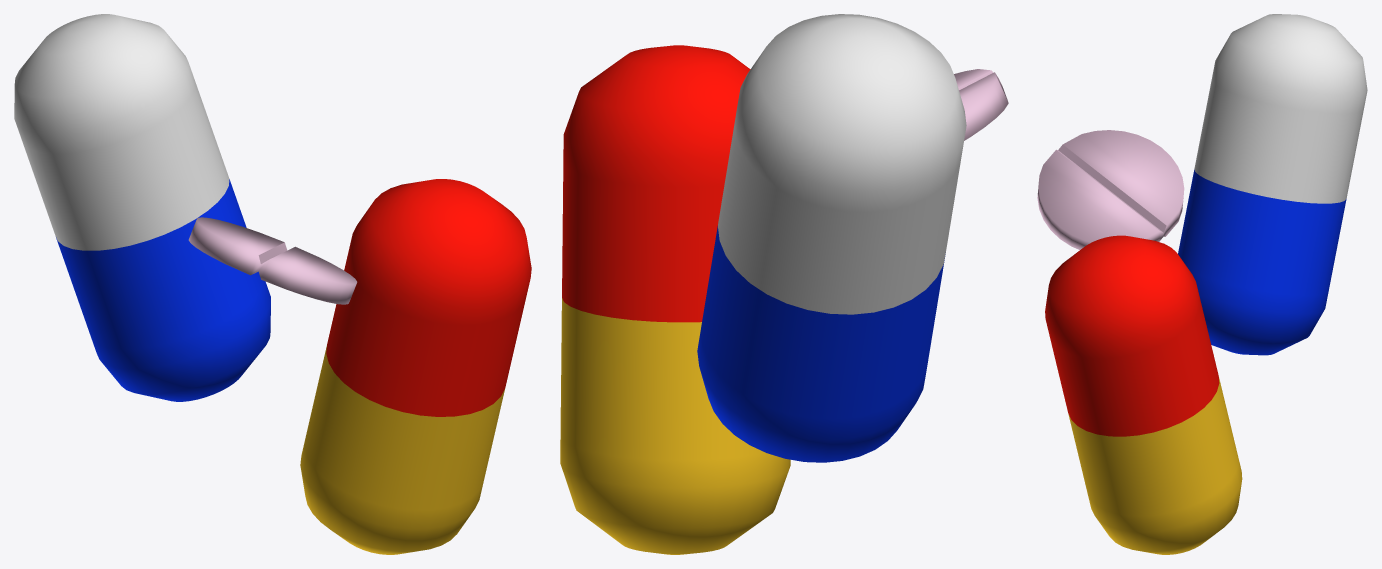
Rendered from Pillen4.fbx.
3 renders of one model, left to right at view 1: azimuth 30°, elevation 25°; view 2: azimuth 150°, elevation 25°; view 3: azimuth 270°, elevation 25°, orthographic. The views are drawn at different scales.
Parts seen in each view (by area): view 1: Cylinder.000; view 2: Cylinder.000; view 3: Cylinder.000.
Part boxes in pixels (box(x1,y1,x2,y2)): Cylinder.000: box(14, 14, 531, 554); Cylinder.000: box(560, 14, 1008, 554); Cylinder.000: box(1037, 14, 1367, 554).
Bounding box in the file's own units: 391 × 490 × 335.
